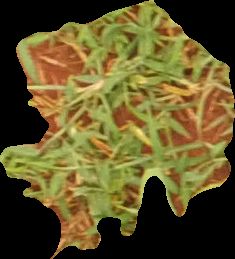grass: (1, 1, 233, 257)
